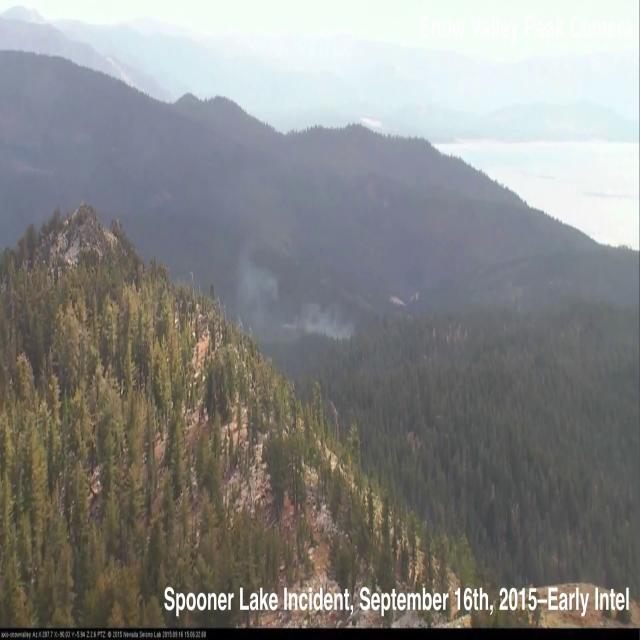smoke: (232, 226, 365, 356)
